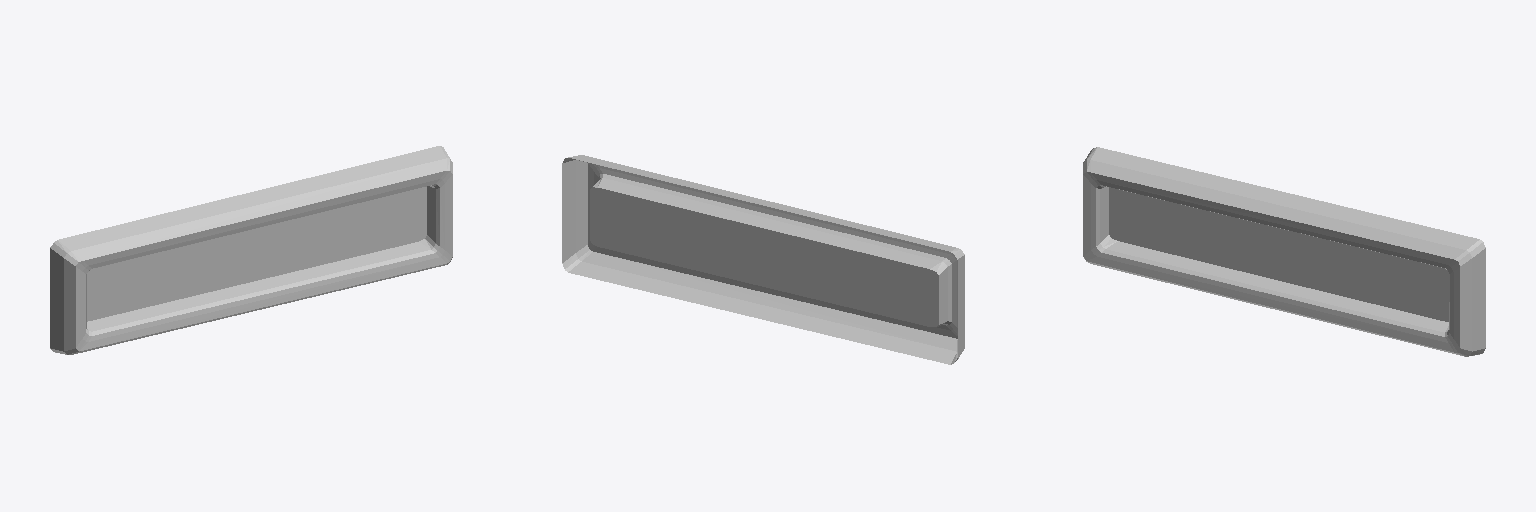
Rendered from light.obj.
3 views of the same model, side by side, from view 1: azimuth 30°, elevation 25°; view 2: azimuth 150°, elevation 25°; view 3: azimuth 330°, elevation 25° (orthographic).
Visible parts, largest first — view 1: Light; view 2: Light; view 3: Light.
Boxes of the visible parts, <box> form: Light: <box>50,146,452,354</box>; Light: <box>562,155,964,364</box>; Light: <box>1083,147,1485,356</box>.
Size of the model in its own units: 184 by 51.24 by 13.1.